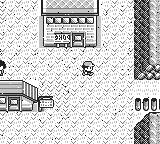leer: (38, 96, 53, 111)
main: (82, 61, 95, 76)
no-caminable: (42, 1, 99, 47), (134, 0, 160, 79), (1, 81, 37, 110), (134, 112, 160, 143), (135, 97, 160, 111)
npc: (1, 60, 6, 76)
puerta: (8, 98, 20, 110), (73, 34, 84, 47)
